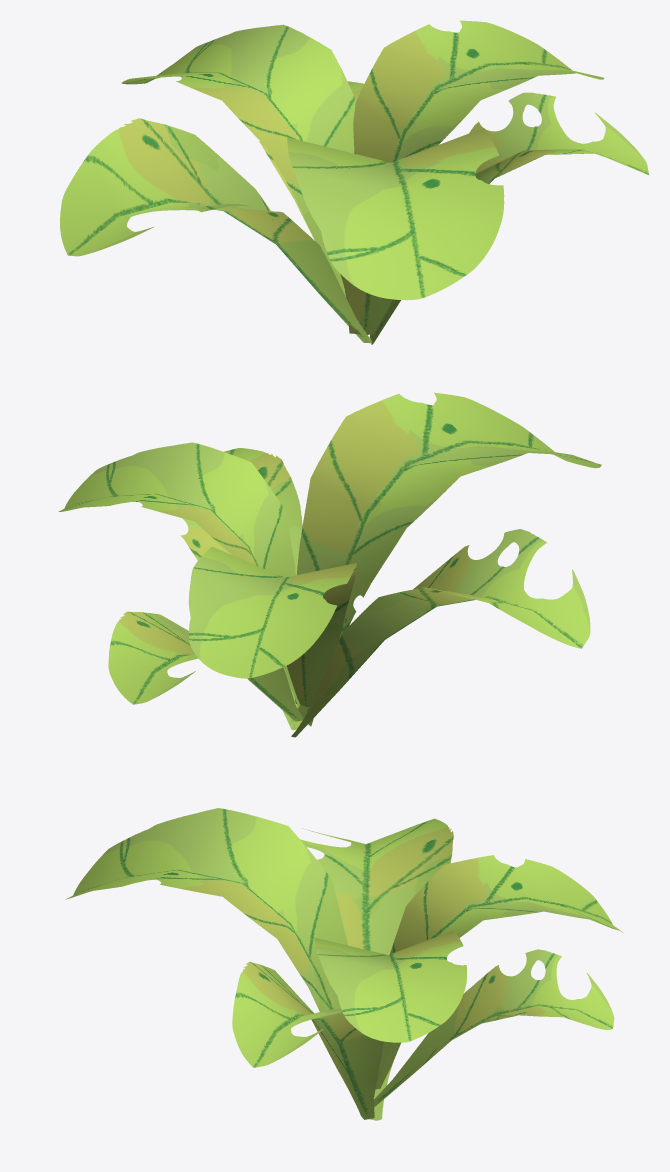
File: SM_RedPlantShort.fbx
3 renders of one model, top to bottom at view 1: azimuth 30°, elevation 25°; view 2: azimuth 150°, elevation 25°; view 3: azimuth 270°, elevation 25°, orthographic. The views are drawn at different scales.
Visible parts, largest first — view 1: SM_RedPlantShort; view 2: SM_RedPlantShort; view 3: SM_RedPlantShort.
Boxes of the visible parts, <box> form: SM_RedPlantShort: <box>60,20,648,344</box>; SM_RedPlantShort: <box>58,392,601,737</box>; SM_RedPlantShort: <box>65,808,622,1120</box>.
Size of the model in its own units: 203 by 97.41 by 226.
